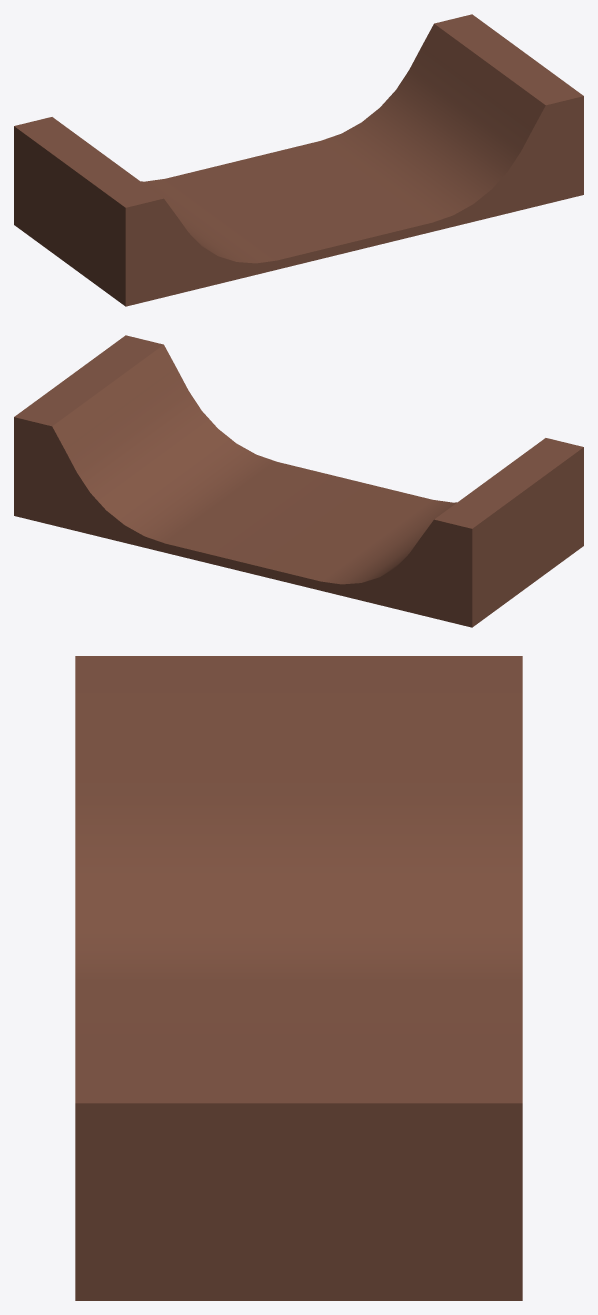
File: HalfPipe.obj
3 views of the same model, one above another, from view 1: azimuth 30°, elevation 25°; view 2: azimuth 150°, elevation 25°; view 3: azimuth 270°, elevation 25° (orthographic). The views are drawn at different scales.
Visible parts, largest first — view 1: HalfPipe; view 2: HalfPipe; view 3: HalfPipe.
Boxes of the visible parts, left/top/right/bottom form: HalfPipe: left=14, top=14, right=583, bottom=306; HalfPipe: left=14, top=335, right=583, bottom=627; HalfPipe: left=75, top=656, right=522, bottom=1300.
Bounding box in the file's own units: 26.51 × 5.46 × 11.2.
